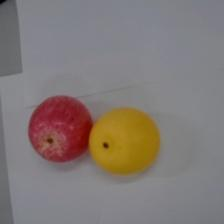red: (27, 94, 93, 164)
yellow: (88, 106, 160, 176)
